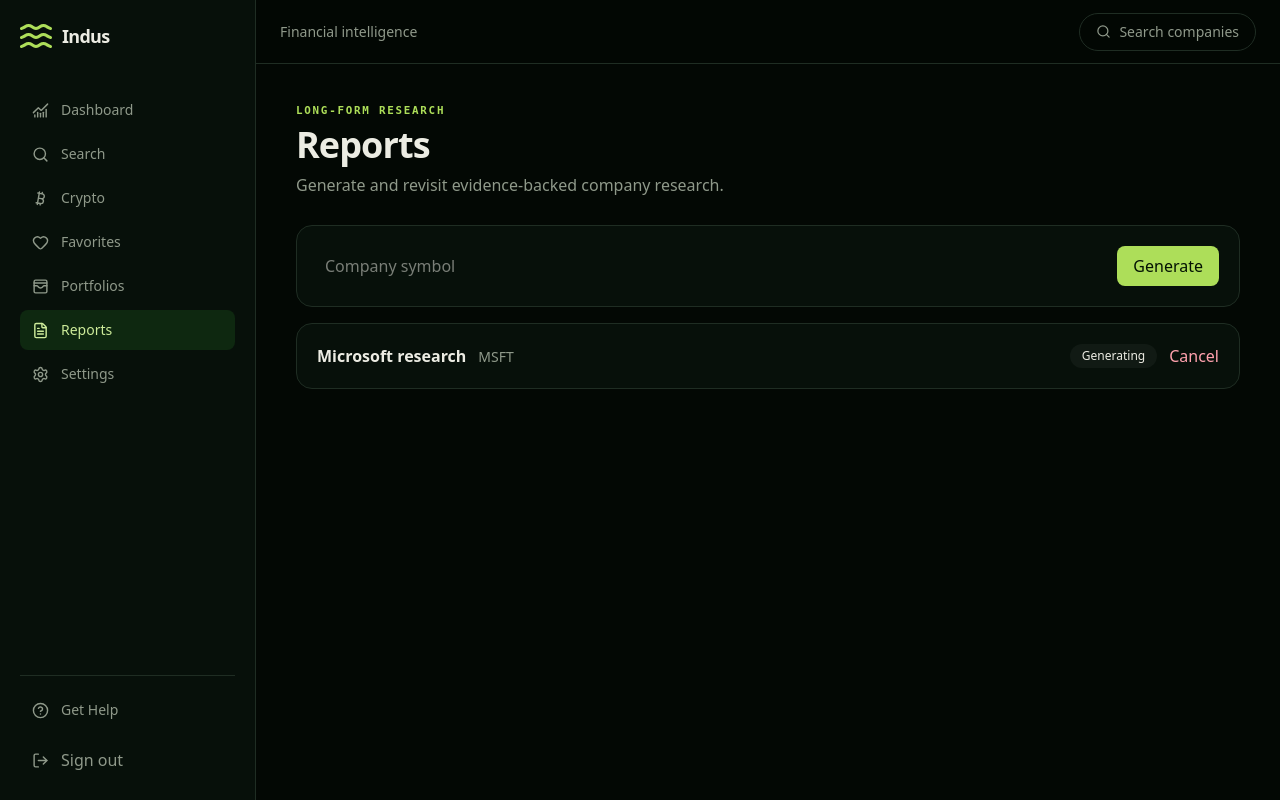
Scenario: application routing › requests cancellation for active reports and applies the returned terminal state
This screenshot has width=1280, height=800.
Click the button "Cancel".
click(1194, 356)  # box [1169, 344, 1219, 368]
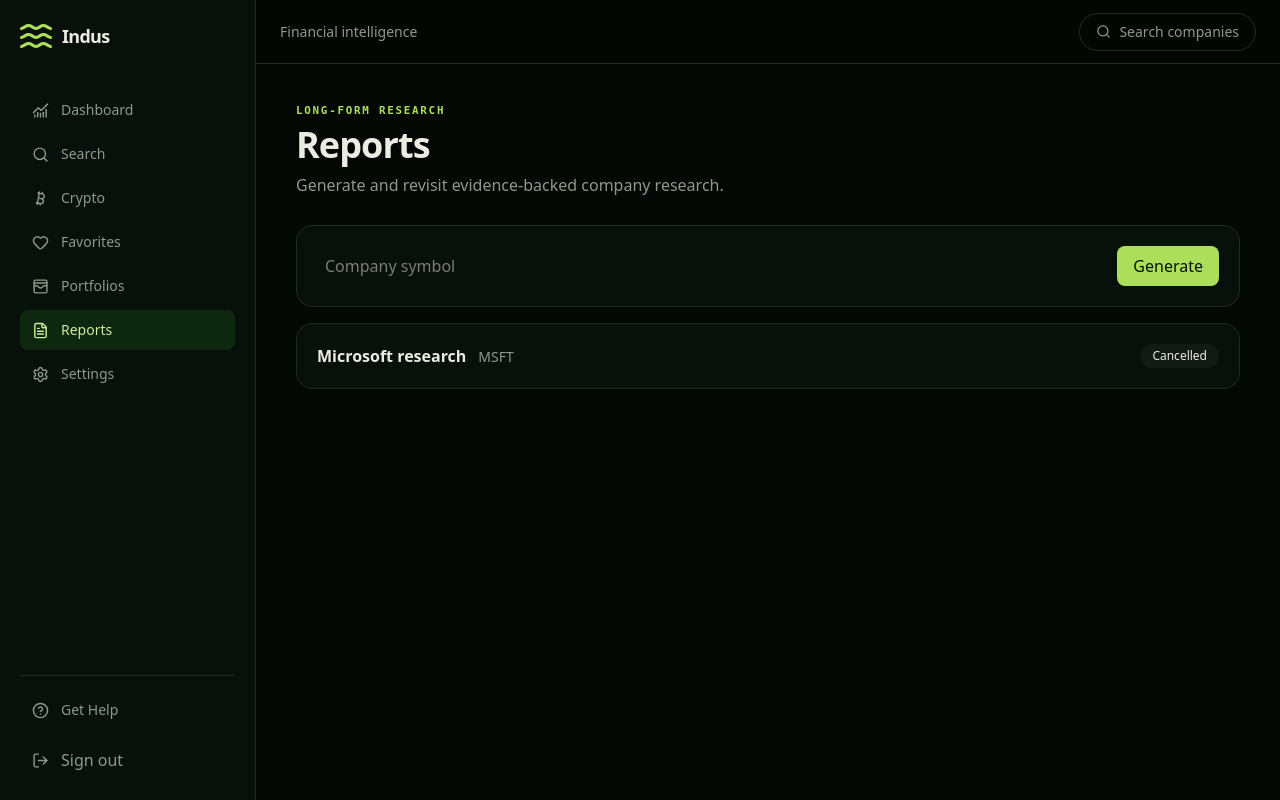
Check: the text "cancelled" is shown, box [1140, 344, 1219, 368]
